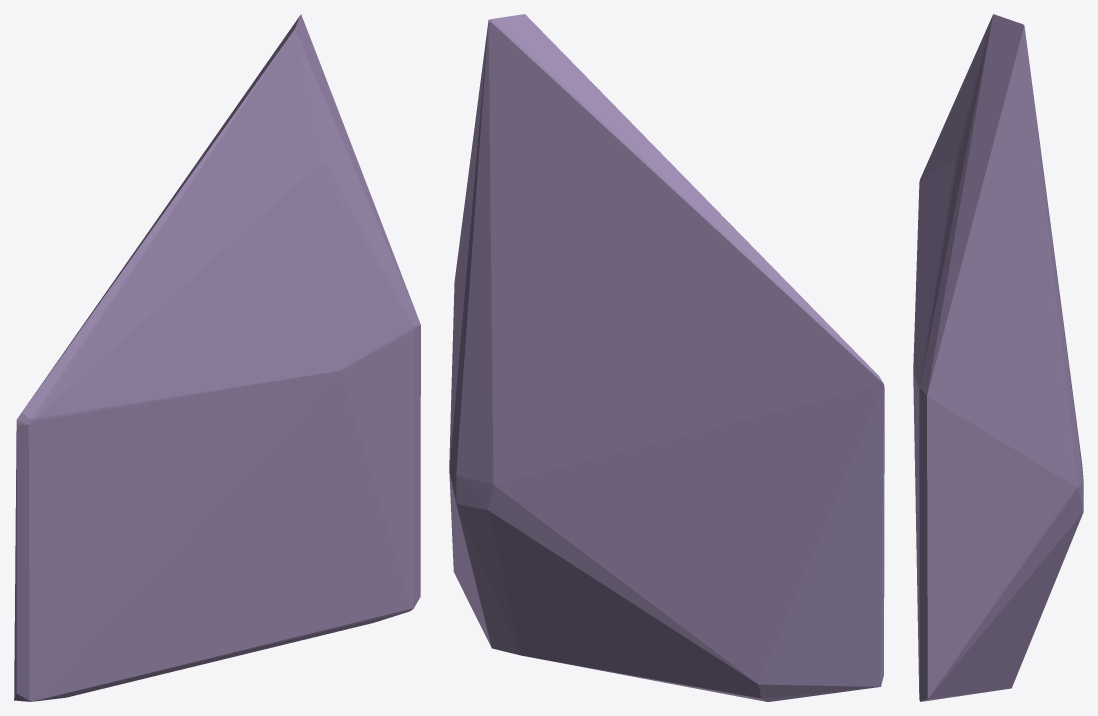
File: vehicleSupport_rolling_dolly_d01.glb
3 renders of one model, left to right at view 1: azimuth 30°, elevation 25°; view 2: azimuth 150°, elevation 25°; view 3: azimuth 270°, elevation 25°, orthographic. The views are drawn at different scales.
Visible parts, largest first — view 1: geometry_0; view 2: geometry_0; view 3: geometry_0.
Boxes of the visible parts, x1,y1,x2,y2 form: geometry_0: (14,14,420,701); geometry_0: (449,14,884,701); geometry_0: (913,14,1083,701).
Bounding box in the file's own units: 0.3403 × 0.4792 × 0.1118.
